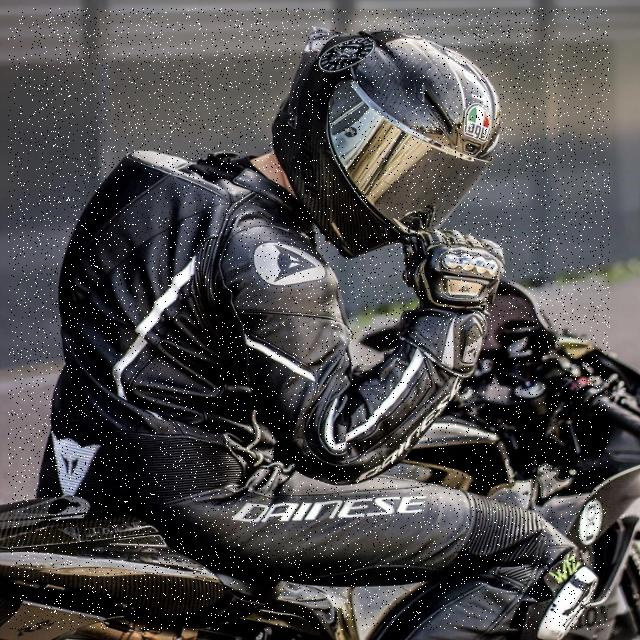With Helmet: (8, 8, 610, 630)
